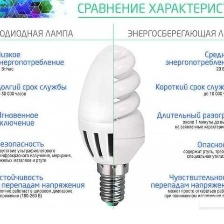light_bulb: (77, 43, 148, 211)
